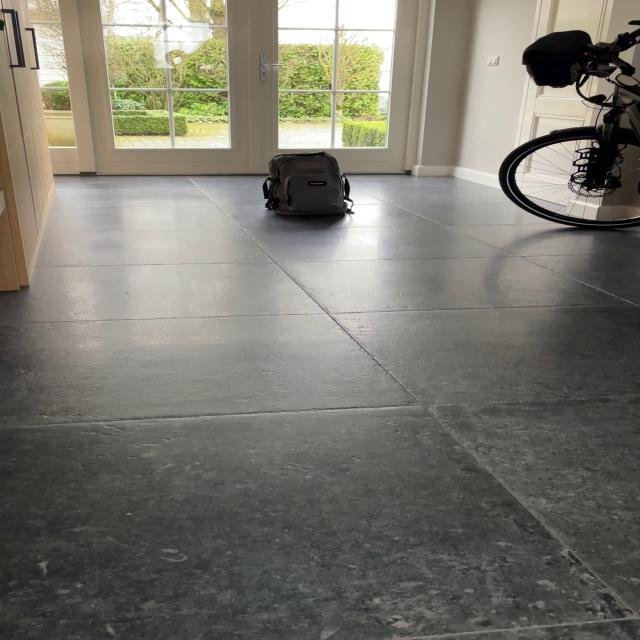backpack: (256, 148, 354, 220)
